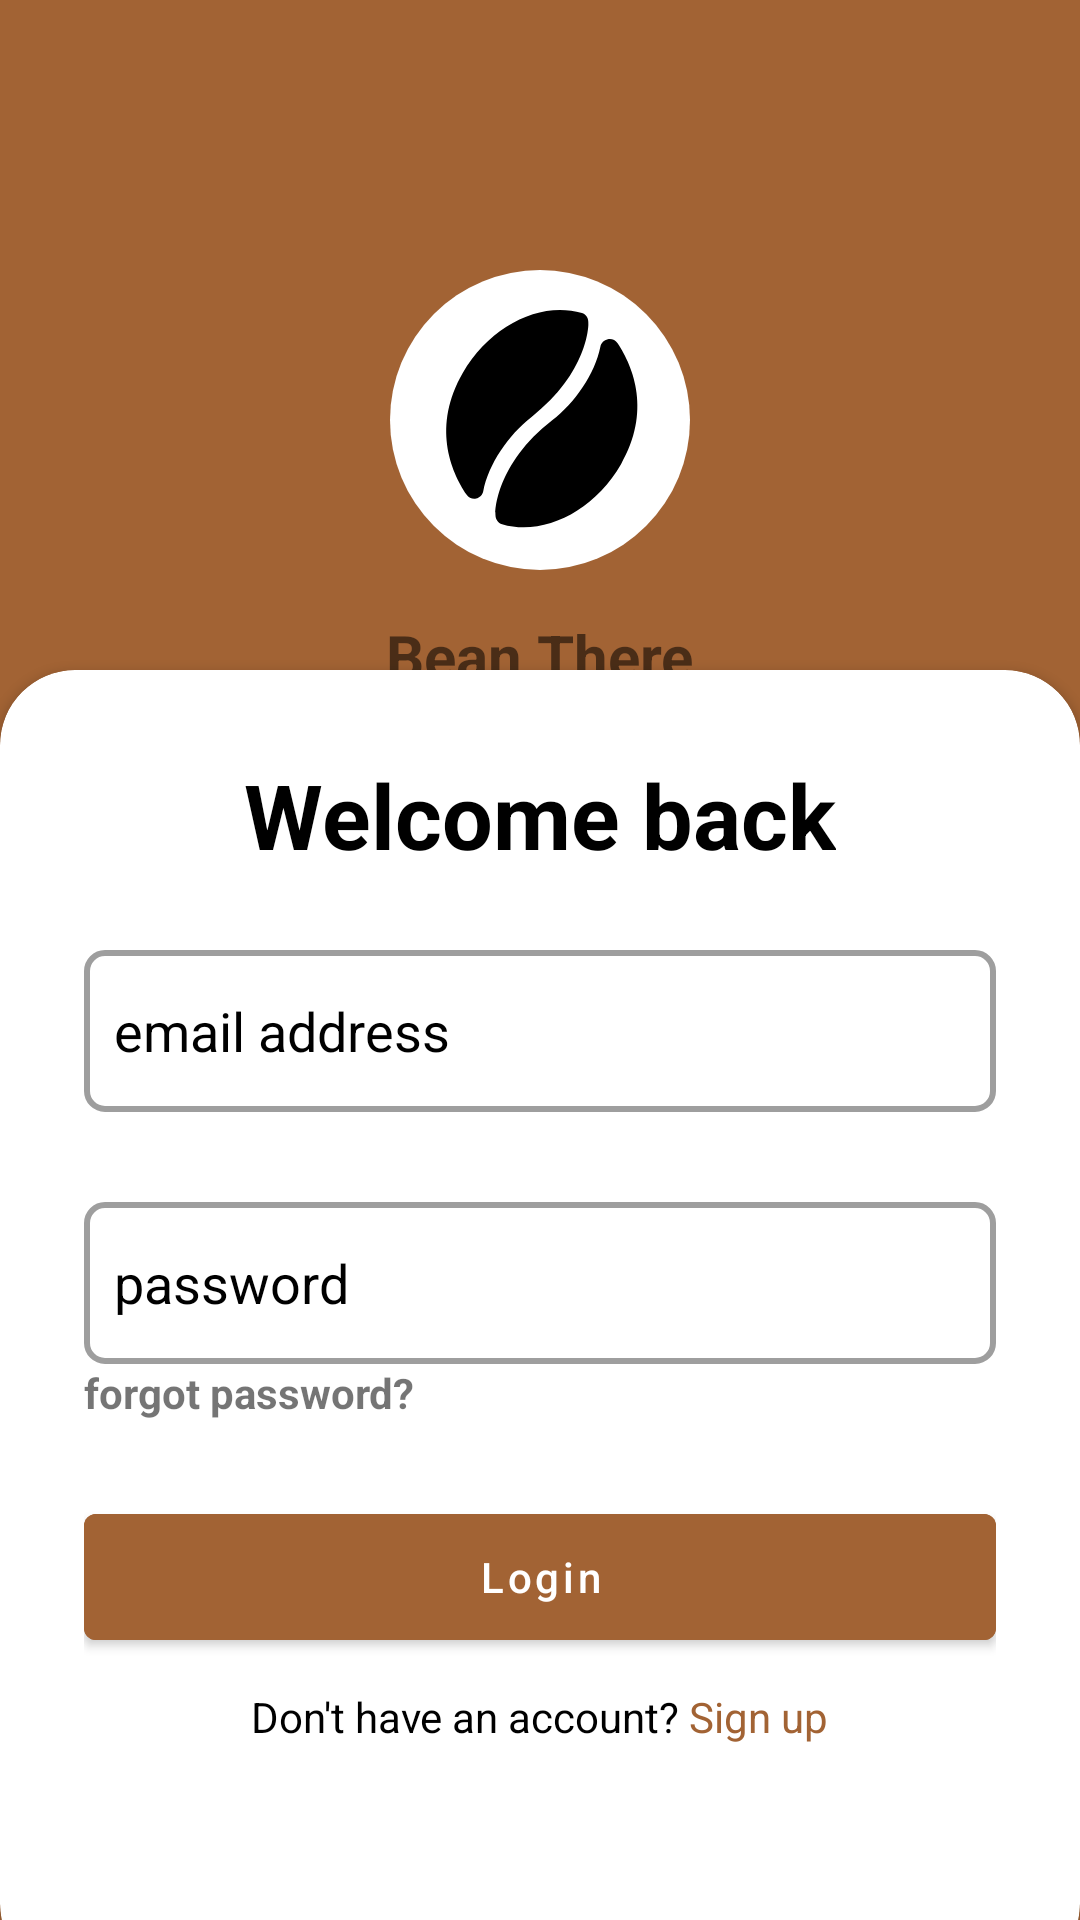

Icon click points for this 1080px×1920px phone screenshot, format (x,y):
coffee bean roast brew: (540,420)
